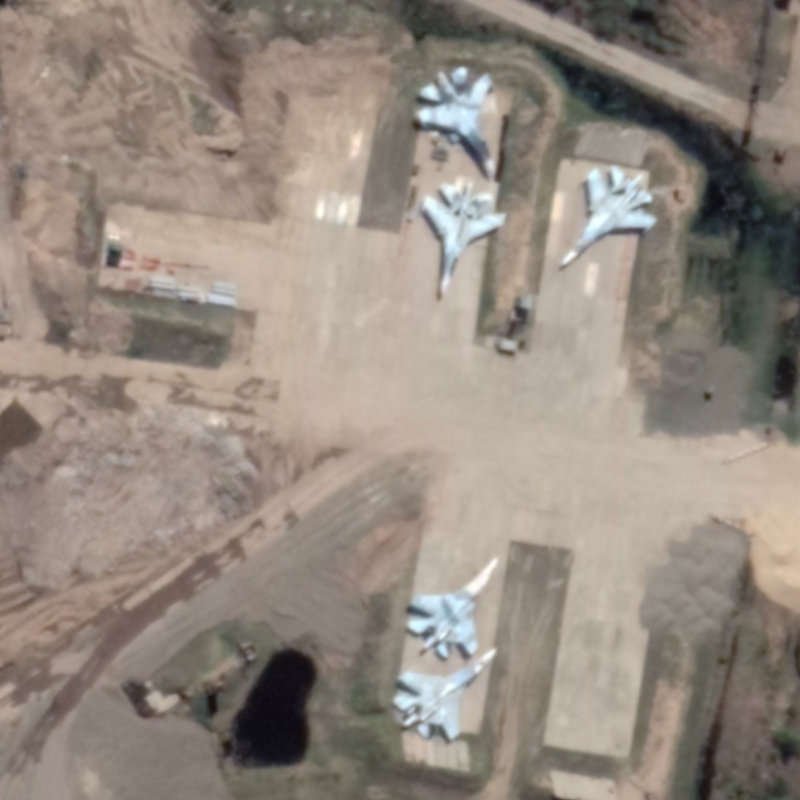A1: (558, 164, 660, 269), (419, 179, 508, 297), (391, 646, 498, 743), (405, 555, 500, 660), (414, 64, 500, 178)
